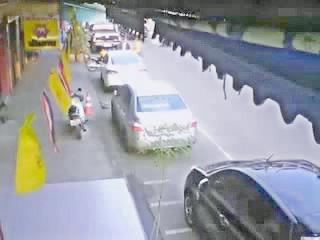Car: (184, 157, 319, 240), (113, 81, 194, 153), (98, 50, 148, 92), (89, 23, 123, 53)
Motor: (68, 92, 91, 134), (85, 50, 106, 71)
